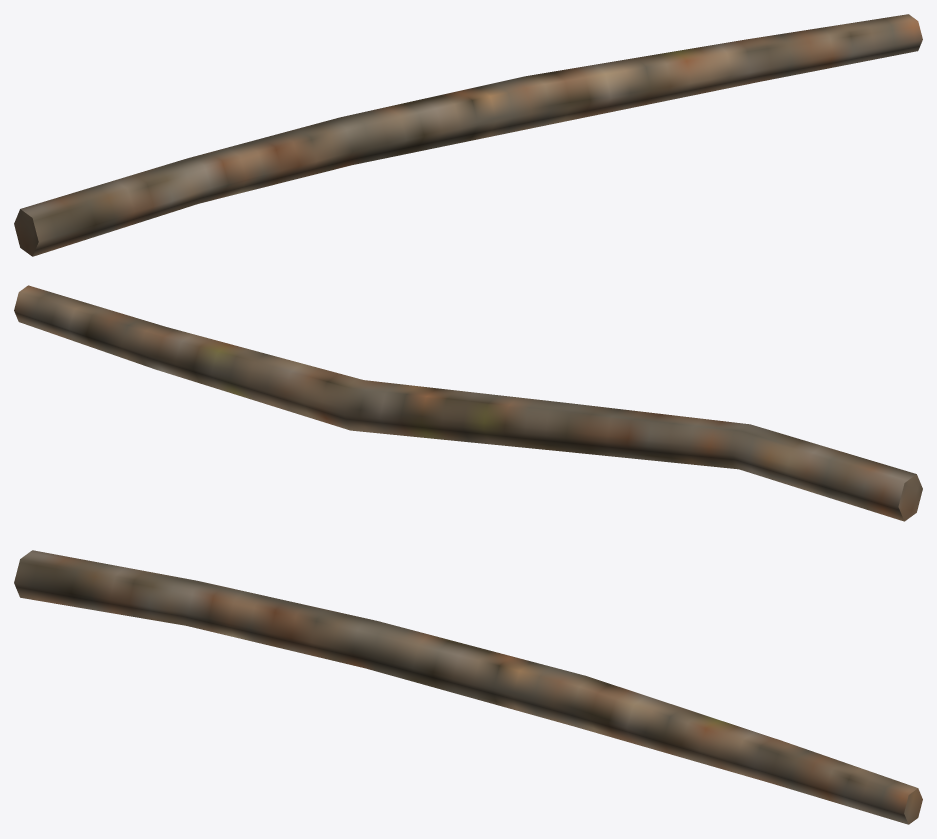
File: stick1.fbx
3 renders of one model, top to bottom at view 1: azimuth 30°, elevation 25°; view 2: azimuth 150°, elevation 25°; view 3: azimuth 330°, elevation 25°, orthographic.
Parts seen in each view (by area): view 1: Cylinder.001; view 2: Cylinder.001; view 3: Cylinder.001.
Part boxes in pixels (x1,y1,x2,y2): Cylinder.001: (14, 14, 922, 256); Cylinder.001: (14, 285, 922, 521); Cylinder.001: (14, 550, 922, 824).
Bounding box in the file's own units: 158 × 11.41 × 15.82.
